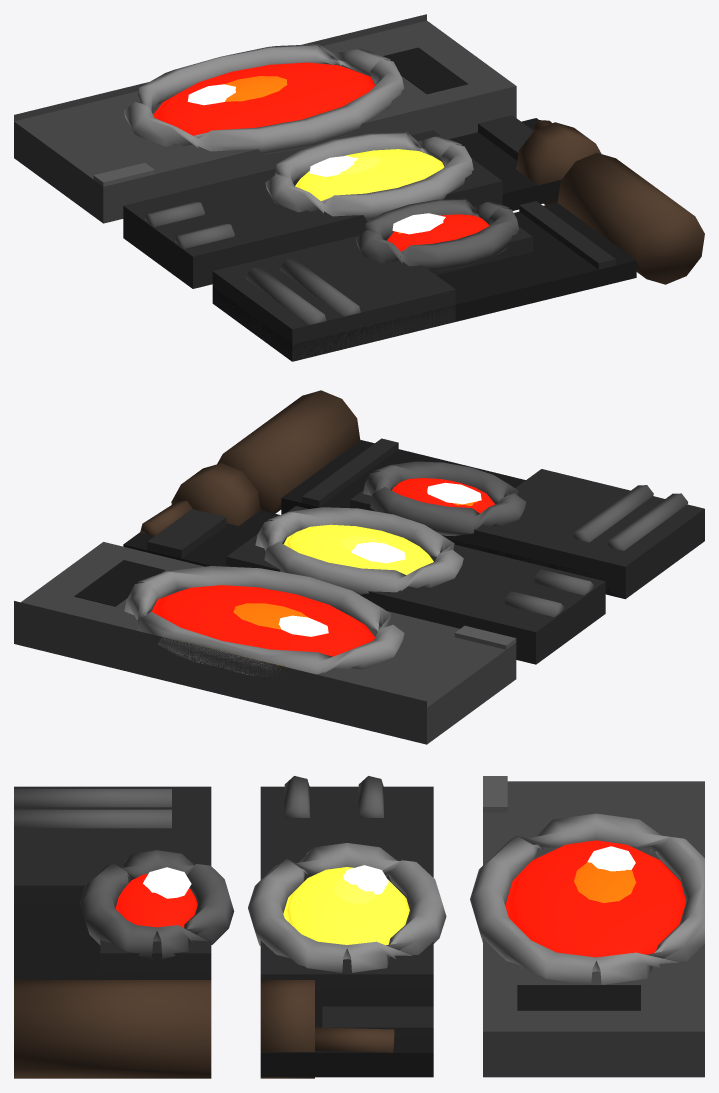
Rendered from newshr-169.glb.
3 renders of one model, top to bottom at view 1: azimuth 30°, elevation 25°; view 2: azimuth 150°, elevation 25°; view 3: azimuth 270°, elevation 25°, orthographic. The views are drawn at different scales.
Parts seen in each view (by area): view 1: newshr-169; view 2: newshr-169; view 3: newshr-169.
Boxes of the visible parts, x1,y1,x2,y2 form: newshr-169: [14, 14, 704, 361]; newshr-169: [14, 390, 704, 744]; newshr-169: [14, 776, 704, 1078].
Bounding box in the file's own units: 2 × 0.3292 × 2.33.
